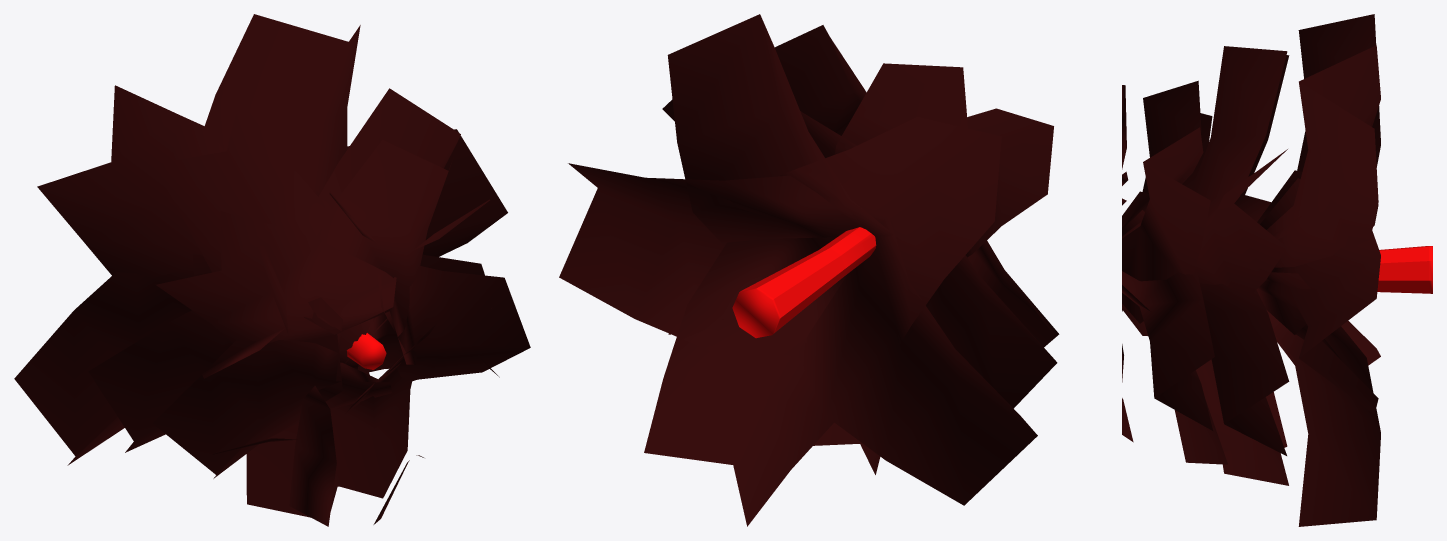
The model's file is FelledPineLower.fbx.
The picture shows the model from 3 angles, left to right: view 1: azimuth 30°, elevation 25°; view 2: azimuth 150°, elevation 25°; view 3: azimuth 270°, elevation 25°; orthographic projection. The views are drawn at different scales.
Parts seen in each view (by area): view 1: FelledPineLower; view 2: FelledPineLower; view 3: FelledPineLower.
Boxes of the visible parts, x1,y1,x2,y2 form: FelledPineLower: (14,14,530,526); FelledPineLower: (559,14,1059,526); FelledPineLower: (1122,14,1432,526).
Size of the model in its own units: 3.58 by 3.61 by 2.2.
